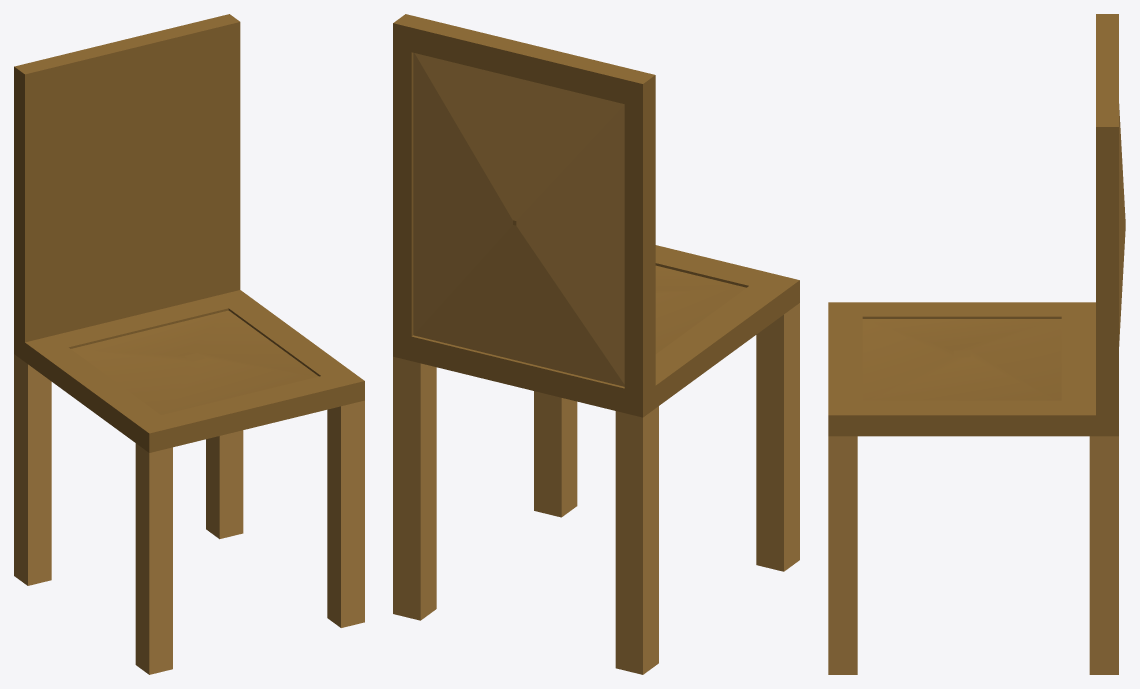
Rendered from Sandalye.fbx.
The picture shows the model from 3 angles, left to right: view 1: azimuth 30°, elevation 25°; view 2: azimuth 150°, elevation 25°; view 3: azimuth 270°, elevation 25°; orthographic projection. The views are drawn at different scales.
Parts seen in each view (by area): view 1: Cube.011; view 2: Cube.011; view 3: Cube.011.
Boxes of the visible parts, box(x1,y1,x2,y2) form: Cube.011: box(14, 14, 364, 674); Cube.011: box(393, 14, 799, 674); Cube.011: box(828, 14, 1125, 674).
Bounding box in the file's own units: 78.71 × 178 × 87.46.
